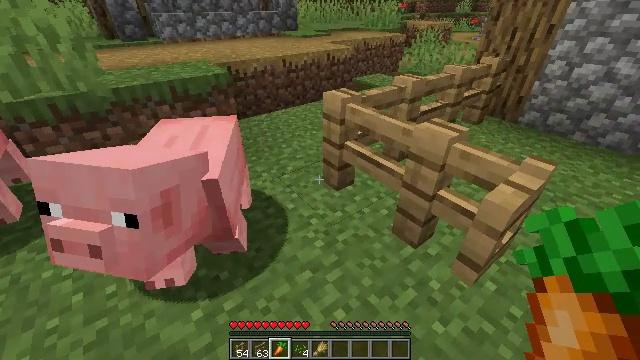pig: (26, 118, 252, 290)
